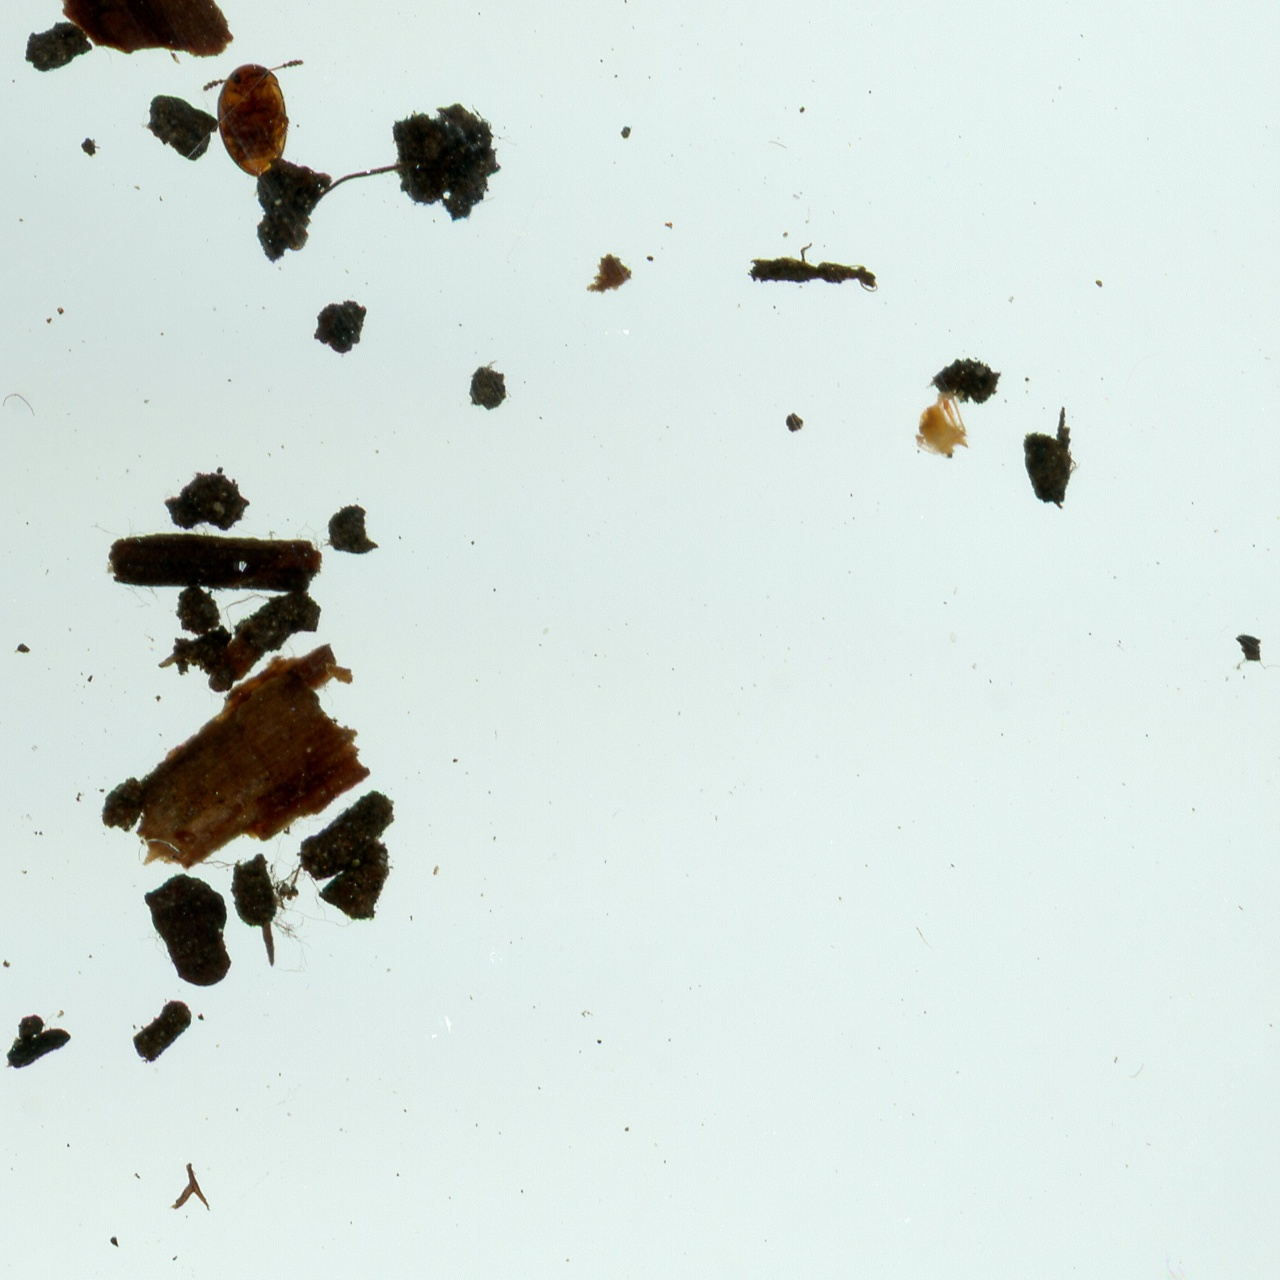arthropod: (200, 56, 313, 181)
